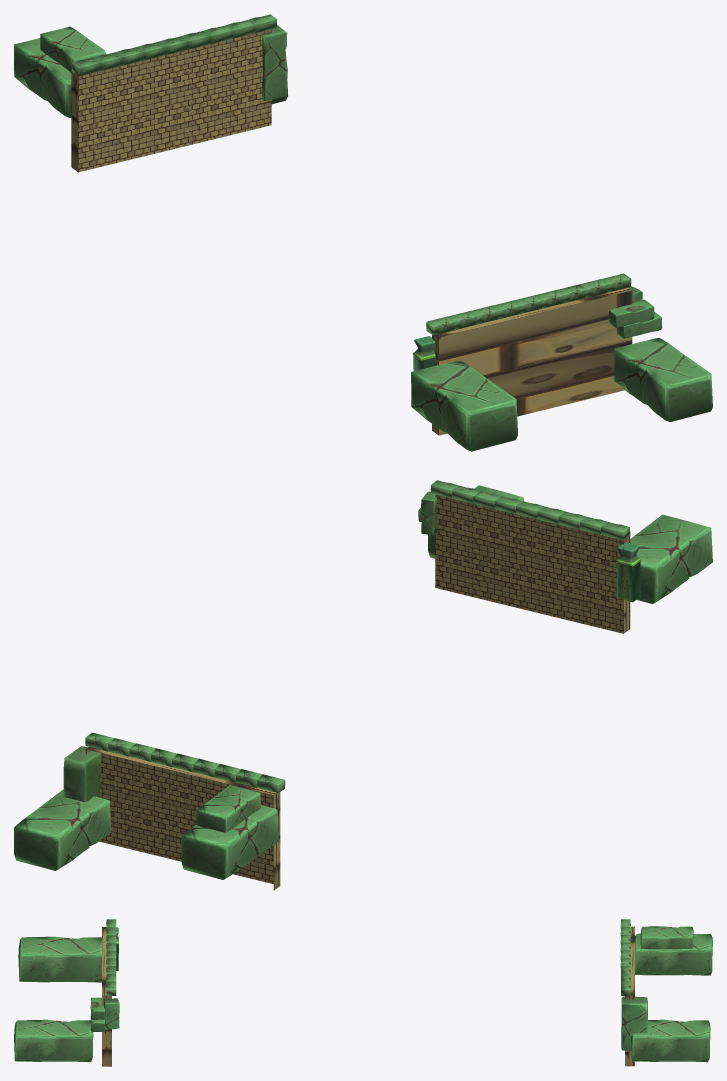
The model's file is walls_north_south.obj.
3 renders of one model, top to bottom at view 1: azimuth 30°, elevation 25°; view 2: azimuth 150°, elevation 25°; view 3: azimuth 270°, elevation 25°, orthographic. The views are drawn at different scales.
Parts seen in each view (by area): view 1: Puente.001, Puente.000, brick3_low.019, brick3_low.038, brick3_low.018, brick3_low.007, brick3_low.084, brick3_low.008, brick2_low.019; view 2: Puente.000, Puente.001, brick3_low.038, brick3_low.017, brick3_low.019, brick3_low.007, brick3_low.008, brick3_low.084, columna4_low, brick3_low.115; view 3: brick3_low.019, brick3_low.018, brick3_low.017, brick3_low.007, brick3_low.038, brick3_low.008, brick3_low.084, Puente.000, Puente.001, brick3_low.115, brick2_low.019.
Boxes of the visible parts, <box> form: Puente.001: <box>71,29,271,172</box>; Puente.000: <box>432,287,632,435</box>; brick3_low.019: <box>411,361,517,451</box>; brick3_low.038: <box>72,14,631,335</box>; brick3_low.018: <box>614,337,712,421</box>; brick3_low.007: <box>14,38,71,117</box>; brick3_low.084: <box>262,25,287,101</box>; brick3_low.008: <box>40,26,105,72</box>; brick2_low.019: <box>608,299,654,327</box>; Puente.000: <box>435,494,630,633</box>; Puente.001: <box>85,747,280,890</box>; brick3_low.038: <box>85,480,630,792</box>; brick3_low.017: <box>14,789,111,870</box>; brick3_low.019: <box>630,514,712,603</box>; brick3_low.007: <box>181,805,278,879</box>; brick3_low.008: <box>196,785,260,832</box>; brick3_low.084: <box>63,746,100,801</box>; columna4_low: <box>616,542,641,602</box>; brick3_low.115: <box>421,491,436,535</box>; brick3_low.019: <box>18,936,101,982</box>; brick3_low.018: <box>14,1019,93,1062</box>; brick3_low.017: <box>631,1019,710,1062</box>; brick3_low.007: <box>635,933,712,975</box>; brick3_low.038: <box>106,919,630,995</box>; brick3_low.008: <box>640,926,693,949</box>; brick3_low.084: <box>621,996,648,1051</box>; Puente.000: <box>102,927,111,1066</box>; Puente.001: <box>625,926,634,1066</box>; brick3_low.115: <box>103,998,119,1029</box>; brick2_low.019: <box>90,997,104,1019</box>.
Bounding box in the file's own units: 959 × 403 × 3266.
